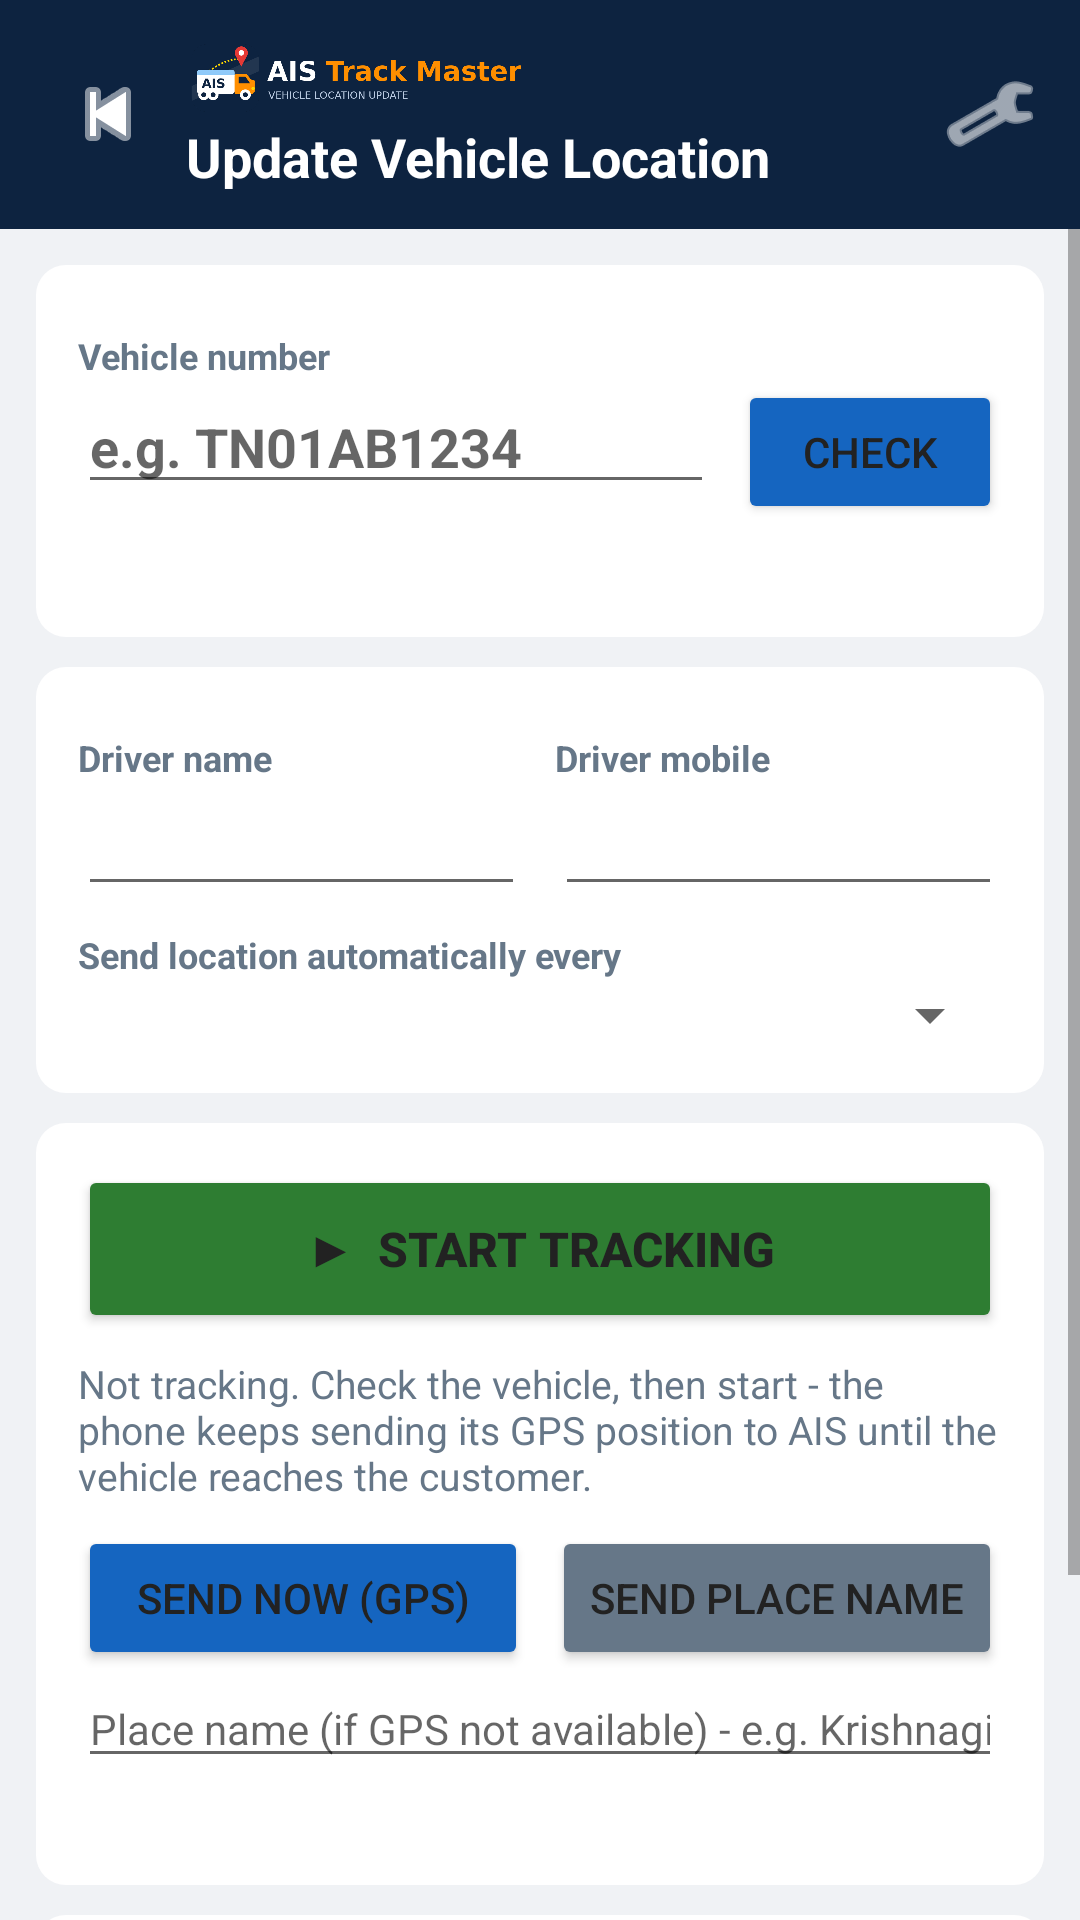

Icons on this 1080px×1920px Android screen, each with its box as (x1, y1, x2, y2):
Back: (85, 87, 131, 141)
Settings: (947, 81, 1033, 147)
